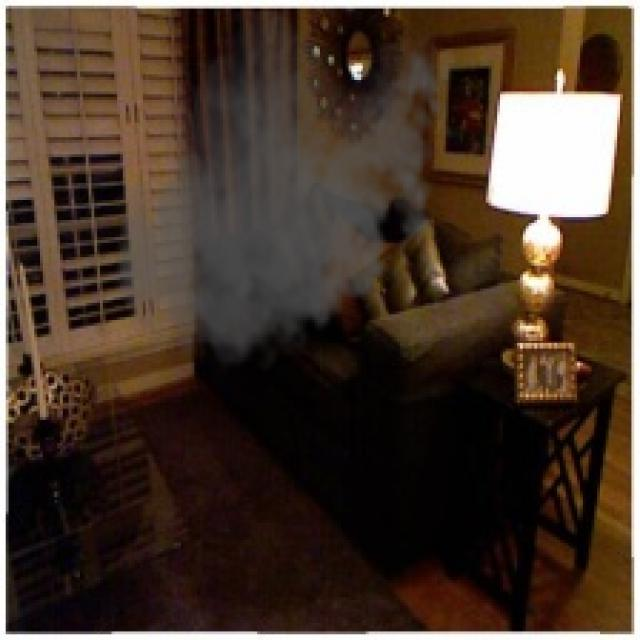smoke: (109, 11, 454, 383)
